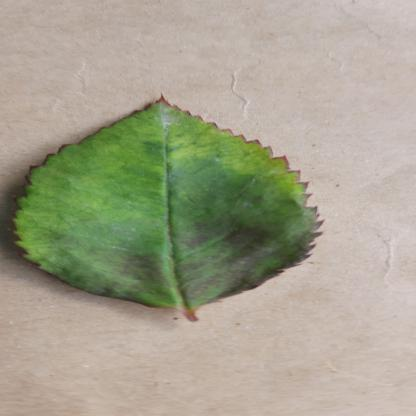downy-mildew: (20, 95, 324, 310)
